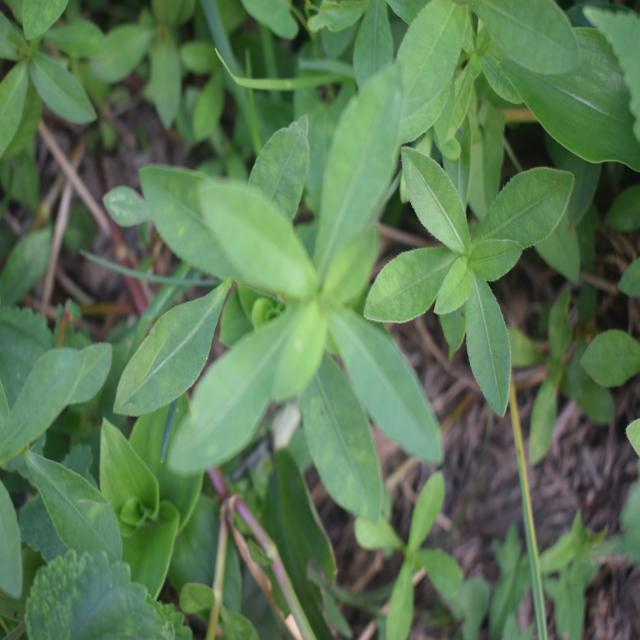Alligatorweed: (369, 115, 561, 433)
